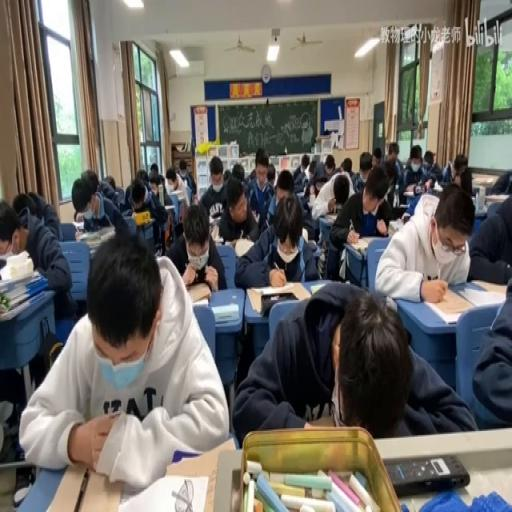calculator: (42, 458, 118, 512), (118, 471, 208, 512), (246, 280, 310, 313), (0, 289, 46, 320), (0, 266, 42, 294), (210, 302, 238, 324), (350, 236, 380, 255), (233, 236, 254, 258), (74, 226, 100, 240), (87, 239, 102, 256), (387, 218, 402, 234), (485, 192, 507, 202), (210, 222, 219, 242), (192, 297, 210, 307), (310, 283, 326, 294), (71, 219, 83, 232), (322, 213, 338, 222), (403, 186, 416, 196), (431, 184, 443, 194), (210, 209, 222, 219), (298, 189, 309, 198), (301, 226, 307, 240), (398, 202, 408, 209), (164, 204, 174, 210)
paper: (20, 226, 226, 484), (234, 282, 474, 442), (376, 179, 474, 300), (232, 191, 318, 287), (471, 269, 512, 429), (166, 199, 226, 292), (467, 180, 512, 284), (73, 169, 133, 233), (124, 175, 170, 253), (308, 166, 352, 238), (13, 190, 62, 244), (198, 155, 230, 220), (398, 145, 433, 203), (379, 141, 402, 202), (442, 155, 474, 195), (348, 151, 374, 192), (274, 168, 294, 209), (176, 156, 195, 195), (291, 155, 310, 192), (485, 169, 511, 195), (0, 214, 19, 244), (130, 189, 146, 211), (166, 170, 178, 190), (136, 168, 150, 185), (339, 156, 352, 174), (230, 164, 244, 180), (266, 164, 276, 186), (324, 154, 334, 176), (372, 146, 382, 166), (102, 175, 116, 189), (306, 160, 316, 178), (148, 162, 158, 179), (423, 151, 434, 165), (222, 169, 230, 182), (249, 168, 256, 180), (192, 193, 198, 205), (301, 160, 307, 170)
person: (384, 452, 470, 496)
